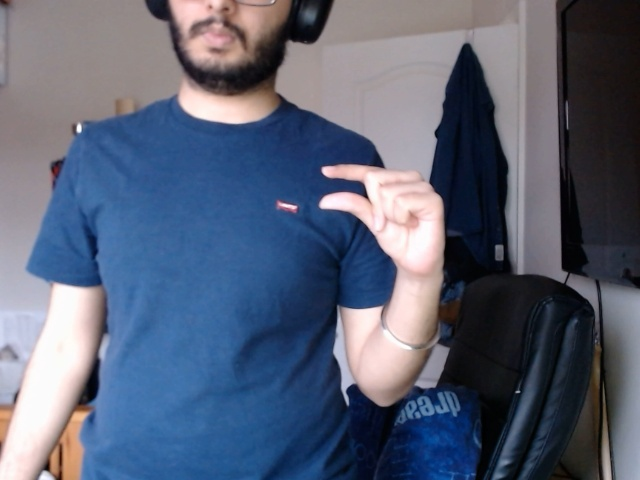Small: (306, 152, 460, 289)
